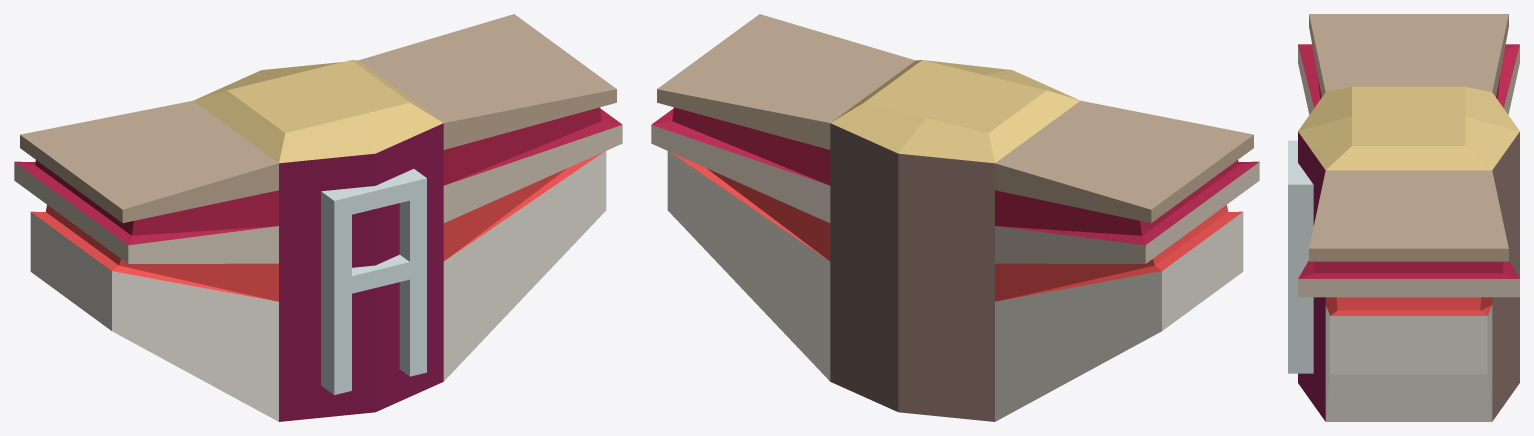
File: PowerUpContentA.fbx
3 views of the same model, side by side, from view 1: azimuth 30°, elevation 25°; view 2: azimuth 150°, elevation 25°; view 3: azimuth 270°, elevation 25° (orthographic). The views are drawn at different scales.
Visible parts, largest first — view 1: PowerUpContentA; view 2: PowerUpContentA; view 3: PowerUpContentA.
Part boxes in pixels (box(x1,y1,x2,y2)): PowerUpContentA: box(14, 14, 622, 421); PowerUpContentA: box(651, 14, 1259, 421); PowerUpContentA: box(1288, 14, 1519, 421).
Bounding box in the file's own units: 100 × 52.96 × 41.79.
